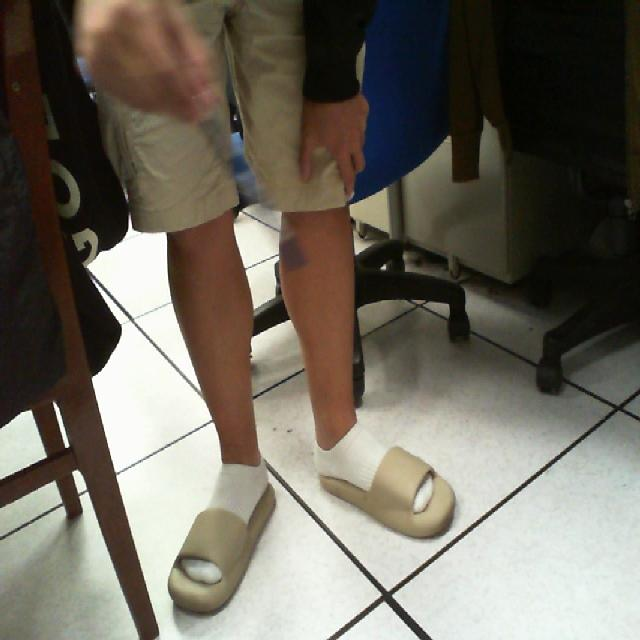Pen: (171, 64, 334, 291)
